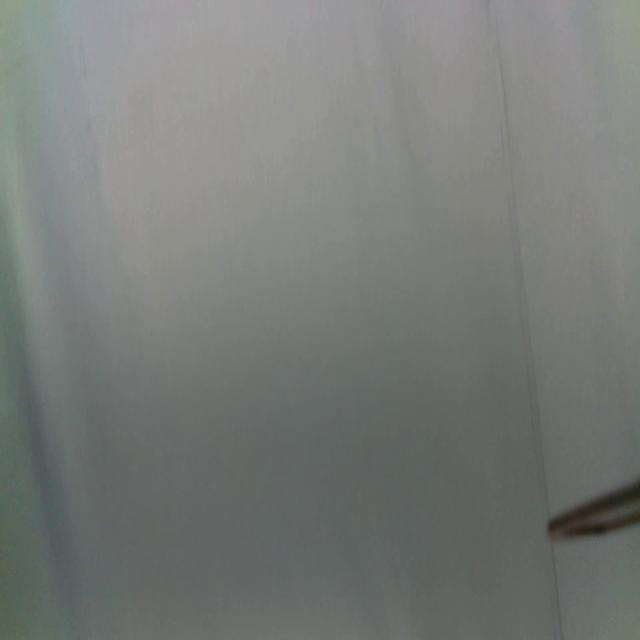crease: (494, 6, 563, 640)
